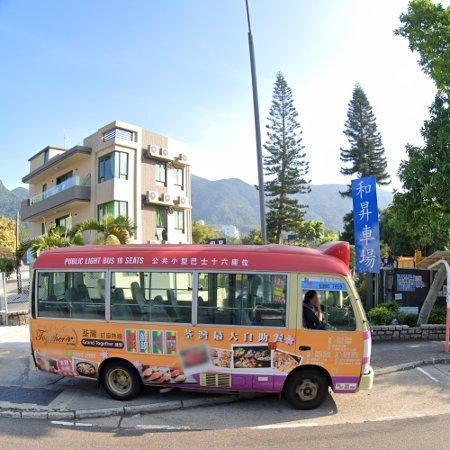buses: (30, 243, 373, 410)
